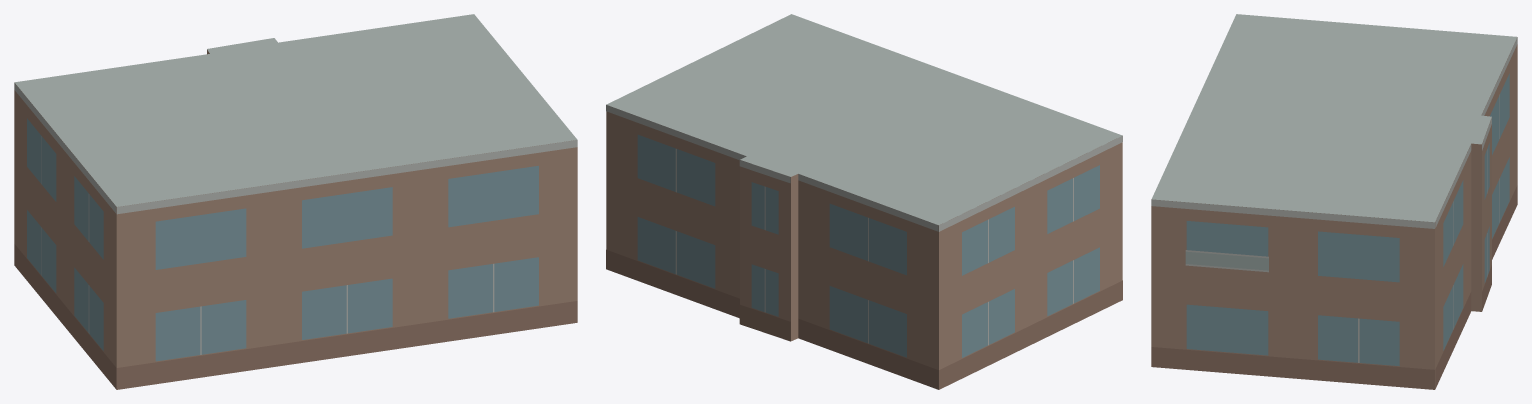
File: survey-upis-32623882.glb
3 renders of one model, left to right at view 1: azimuth 30°, elevation 25°; view 2: azimuth 150°, elevation 25°; view 3: azimuth 270°, elevation 25°, orthographic. The views are drawn at different scales.
Parts seen in each view (by area): view 1: survey-upis-32623882.tmp; view 2: survey-upis-32623882.tmp; view 3: survey-upis-32623882.tmp.
Part boxes in pixels (x1=…): survey-upis-32623882.tmp: x1=14, y1=14, x2=577, y2=389; survey-upis-32623882.tmp: x1=606, y1=14, x2=1122, y2=389; survey-upis-32623882.tmp: x1=1151, y1=14, x2=1517, y2=389.
Bounding box in the file's own units: 16.27 × 6.1 × 12.09.
